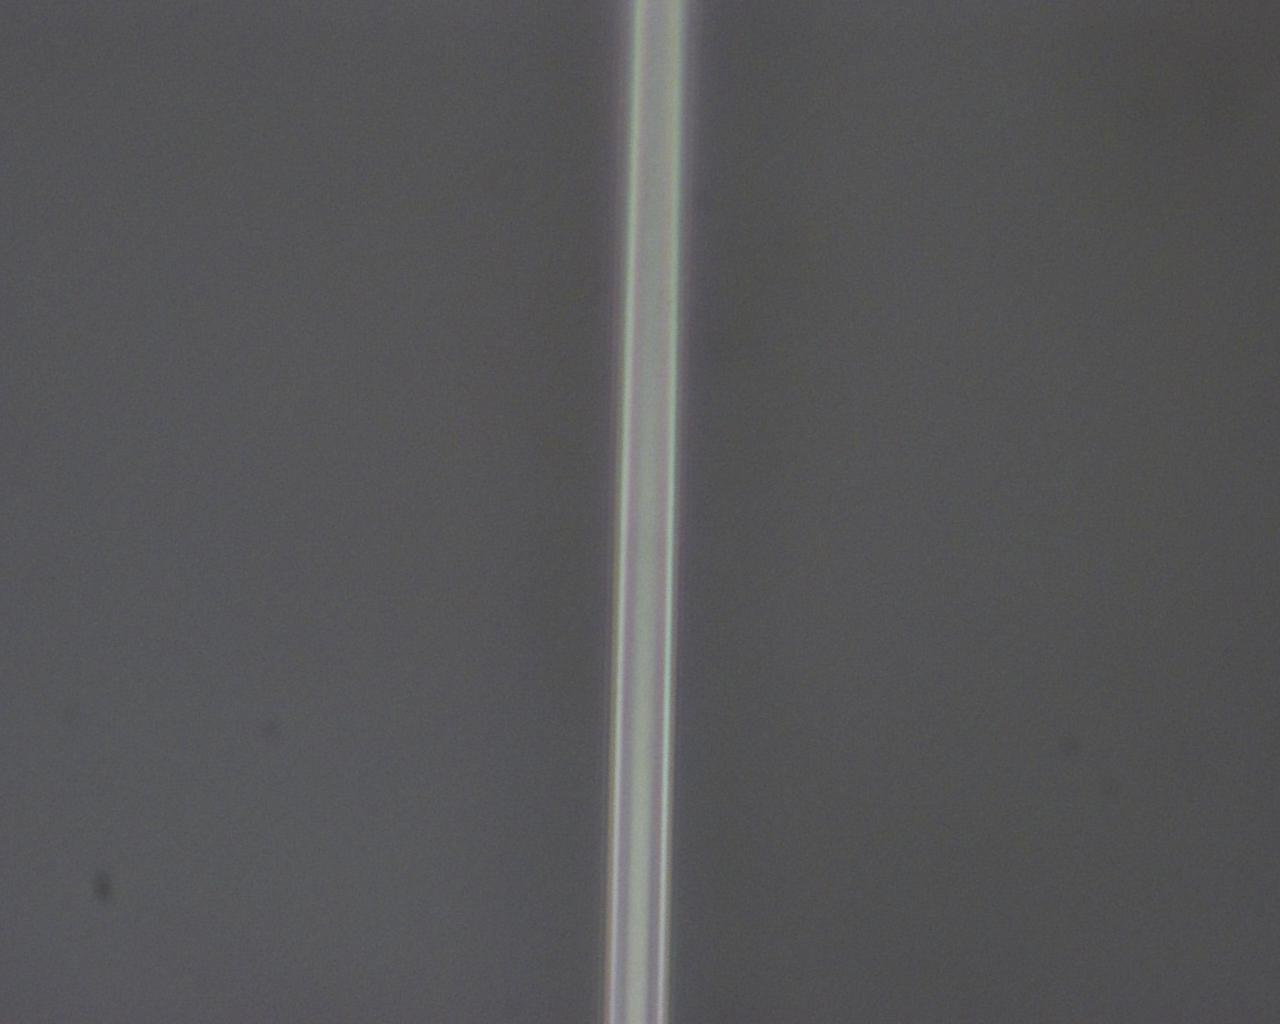fiber: (604, 0, 688, 1024)
